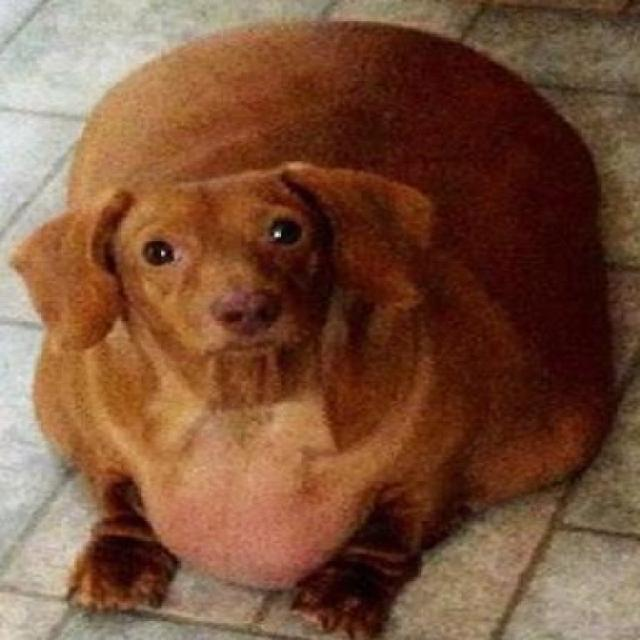Dog: (6, 17, 639, 638)
